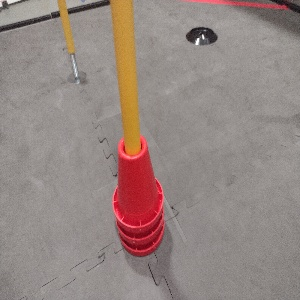Red_3: (111, 134, 165, 257)
